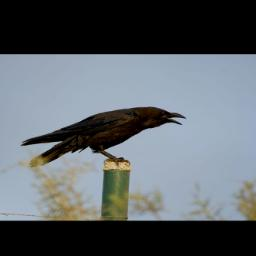Crow: (17, 103, 189, 168)
